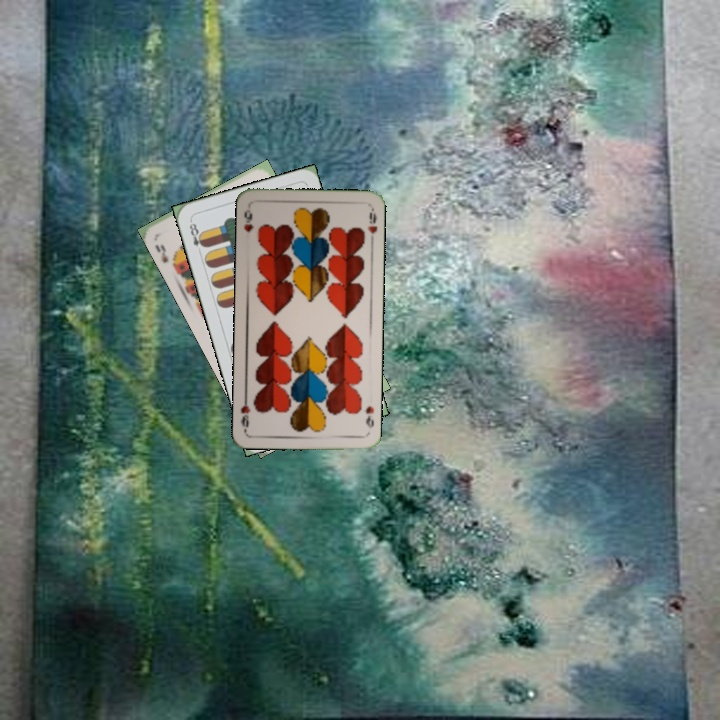E8: (185, 216, 208, 256)
H9: (240, 206, 256, 236), (361, 402, 377, 430)
S9: (151, 240, 181, 271)
